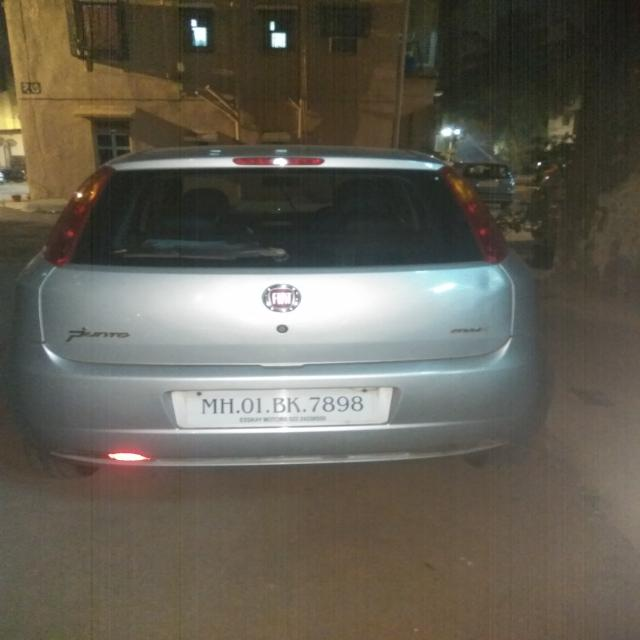Number-Plate: (194, 388, 382, 421)
